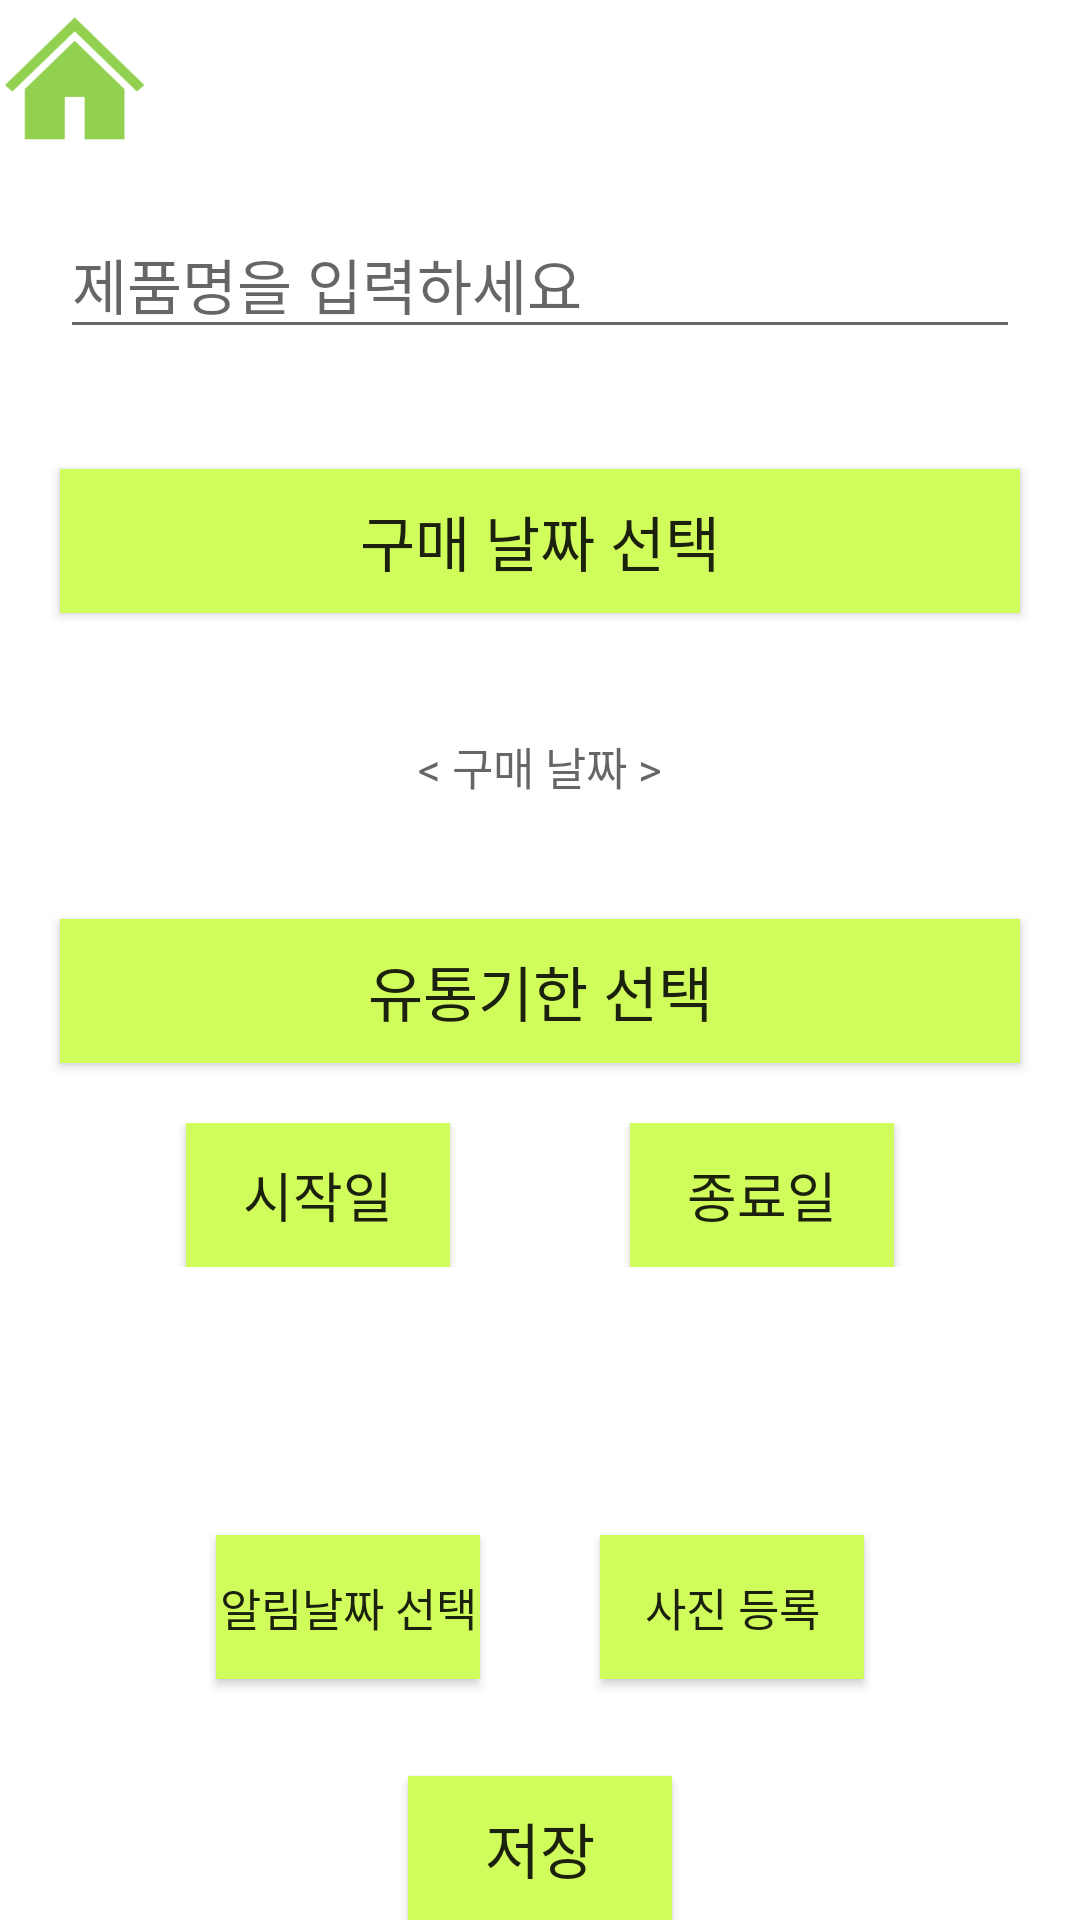

Point at icon controls on the screen. Image size 1080w x 1920h, points as (x,y).
homebtn: (74,78)
